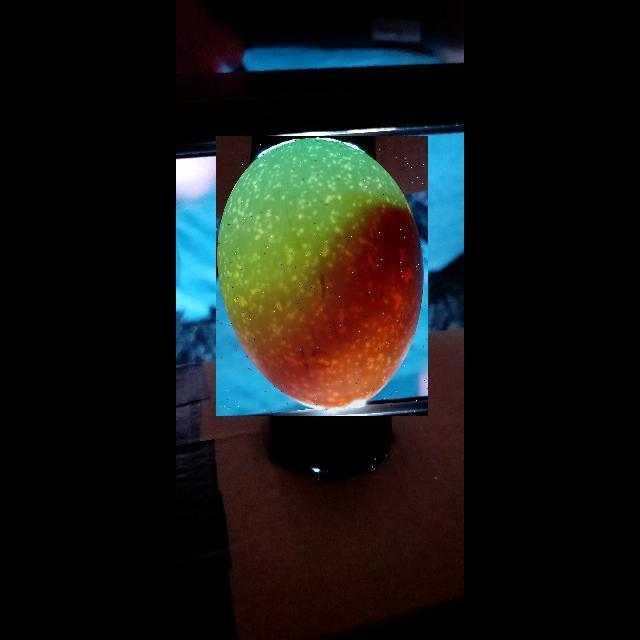Infertile: (216, 136, 428, 416)
